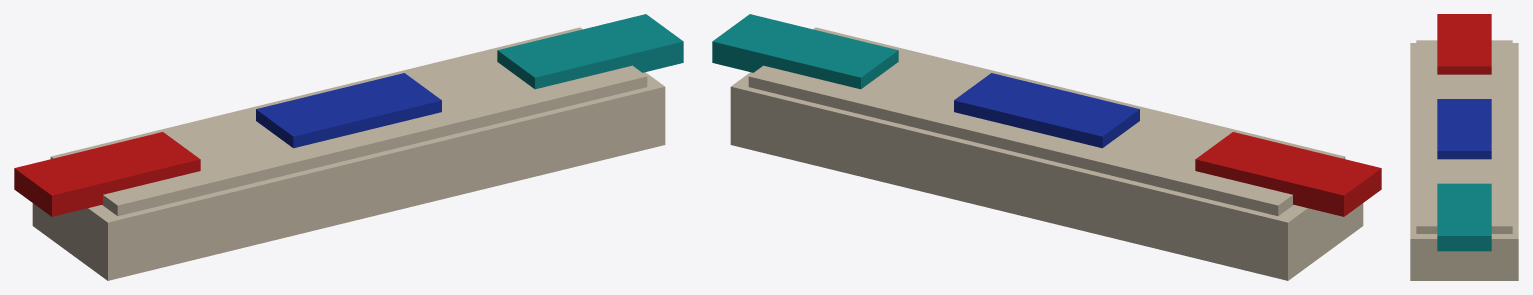
Rendered from DispatchPanel.obj.
3 renders of one model, left to right at view 1: azimuth 30°, elevation 25°; view 2: azimuth 150°, elevation 25°; view 3: azimuth 270°, elevation 25°, orthographic. The views are drawn at different scales.
Visible parts, largest first — view 1: Holder, Buttons; view 2: Holder, Buttons; view 3: Holder, Buttons.
Part boxes in pixels (<box>): Holder: <box>32,27,665,280</box>; Buttons: <box>14,14,683,216</box>; Holder: <box>730,27,1363,280</box>; Buttons: <box>712,14,1381,216</box>; Holder: <box>1410,40,1518,280</box>; Buttons: <box>1437,14,1491,251</box>.
Bounding box in the file's own units: 0.68 × 0.083 × 0.14.
